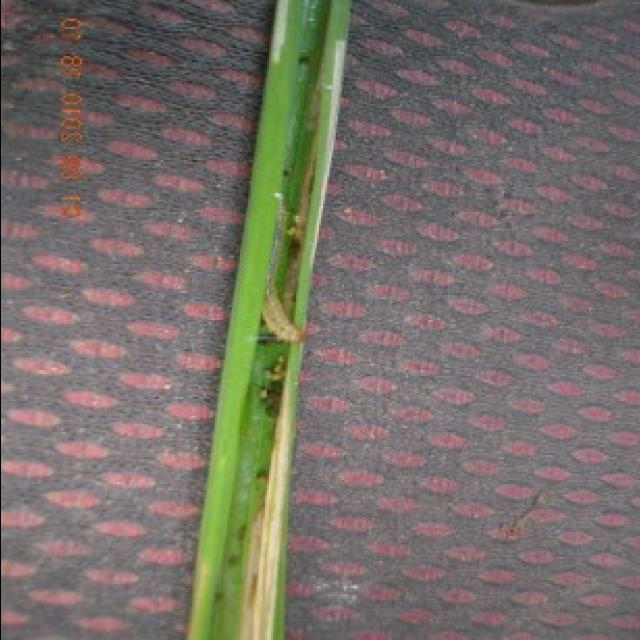rice leaf roller: (239, 81, 320, 640)
